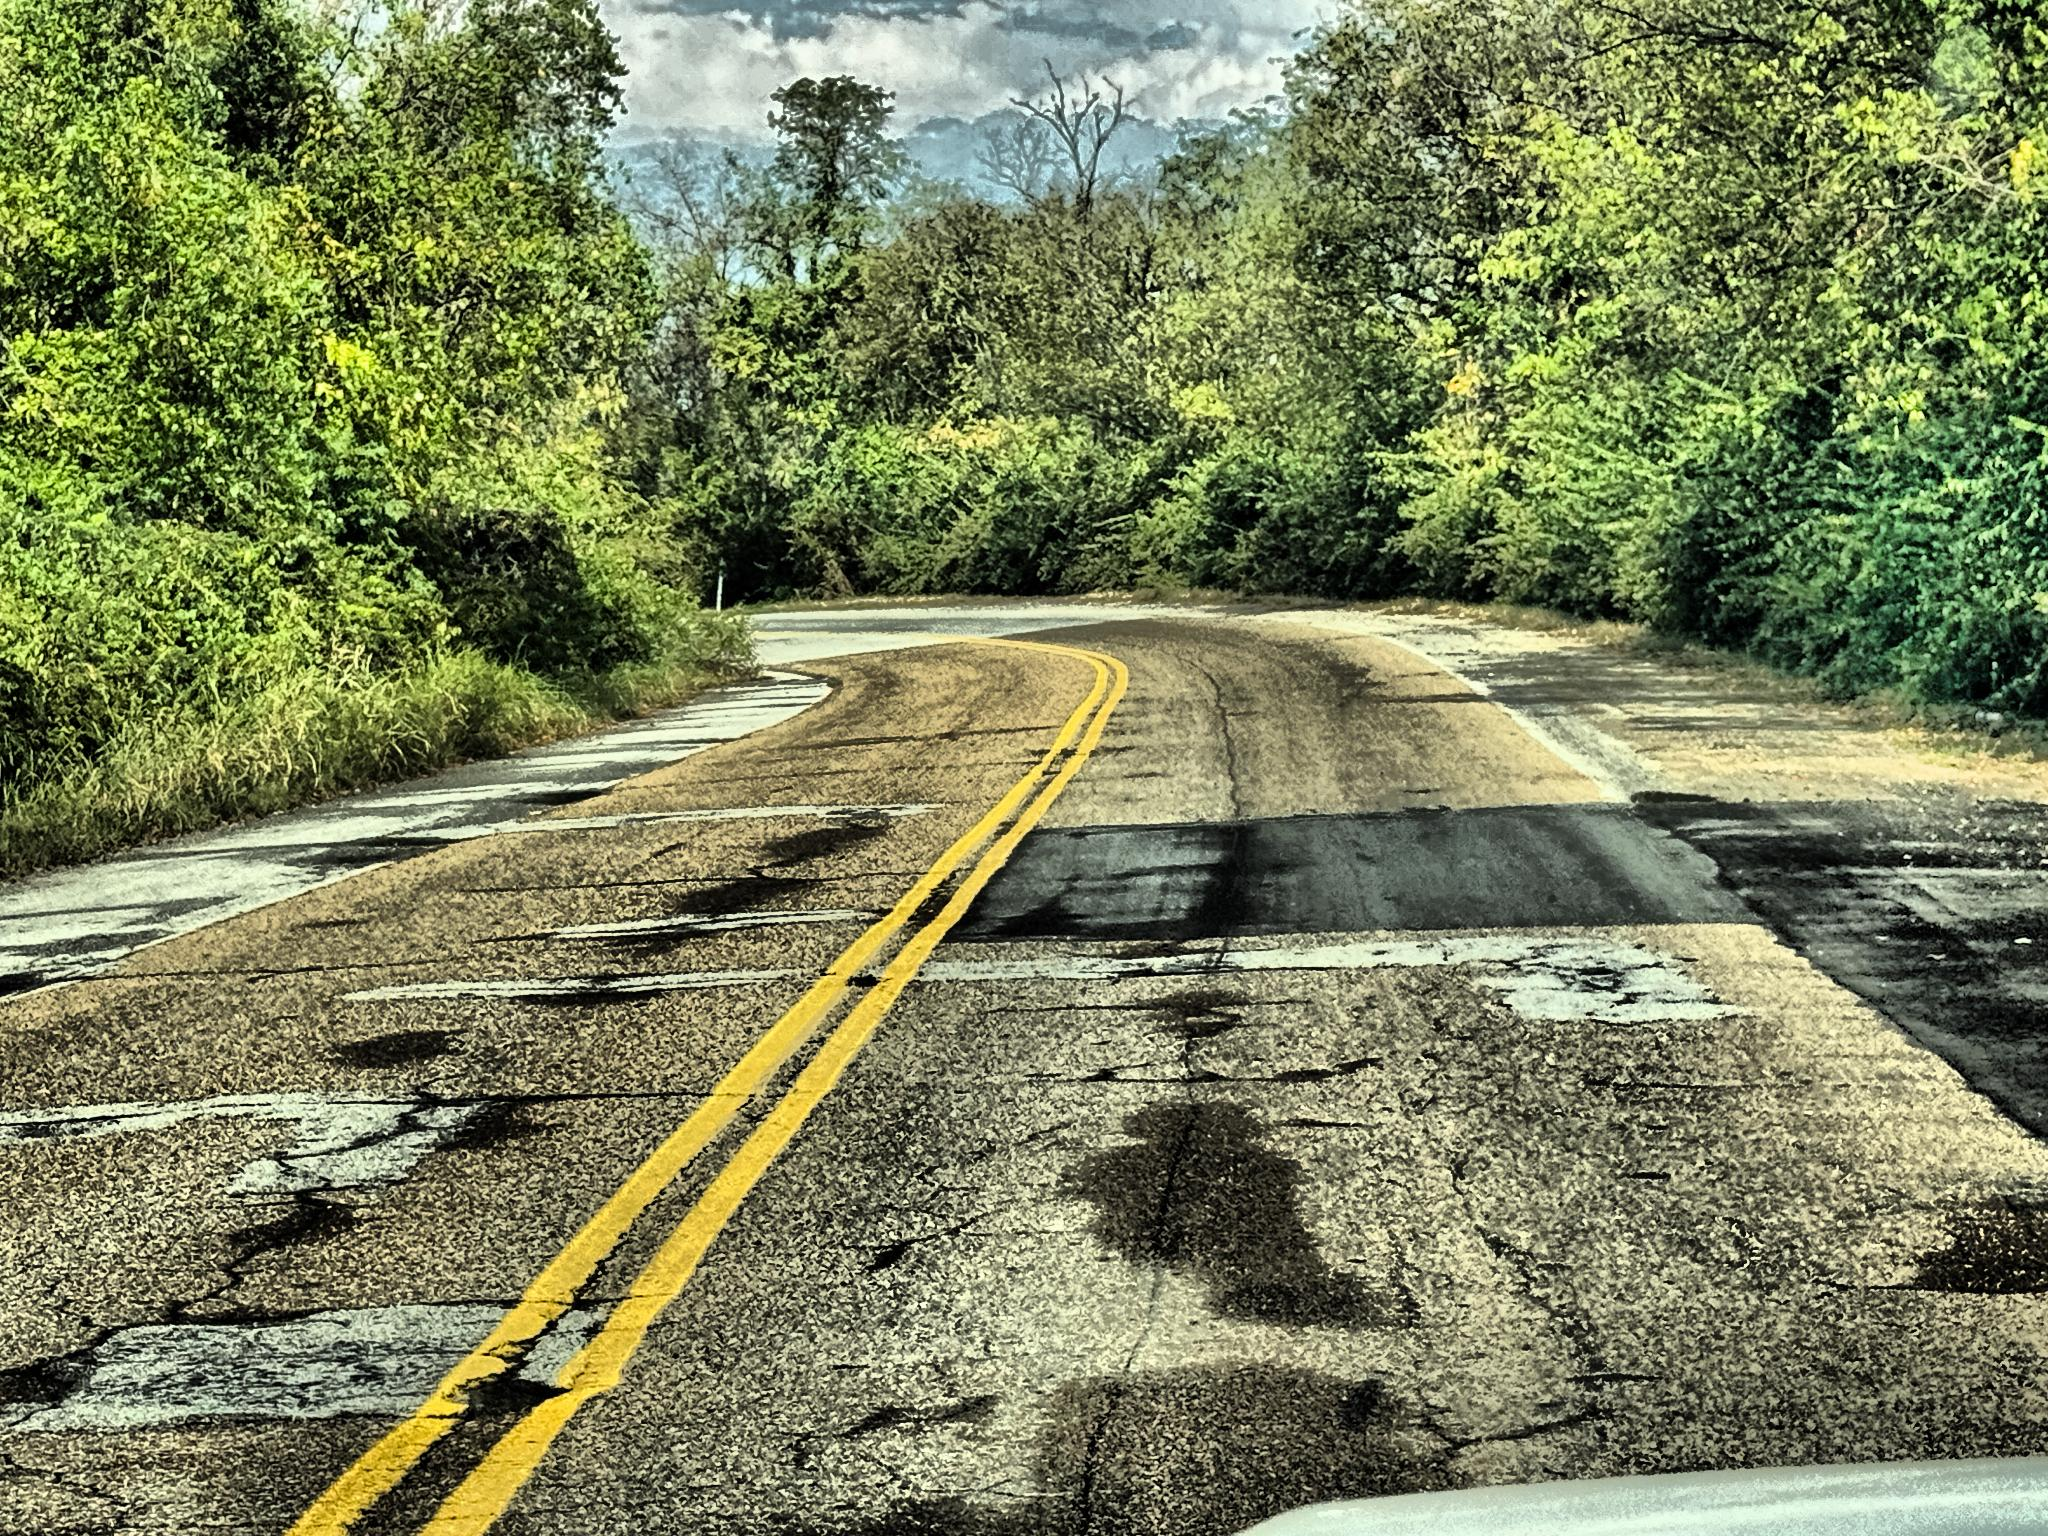pothole: (76, 1297, 592, 1444), (1932, 1186, 2048, 1305), (513, 778, 618, 813), (364, 826, 448, 852), (1627, 786, 1716, 808)
